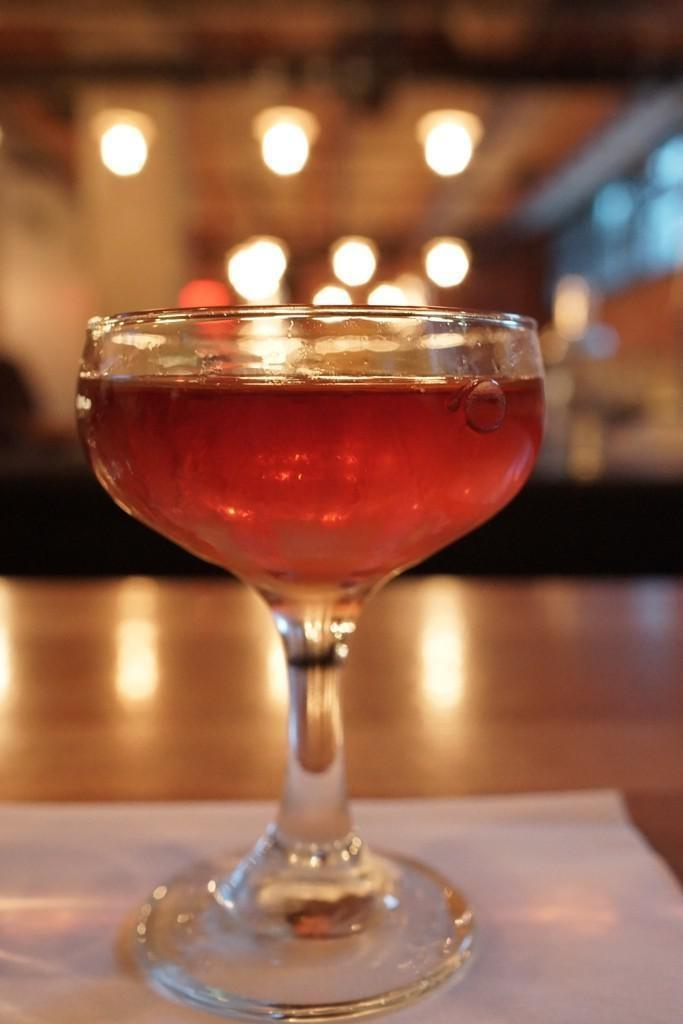glass-wine: (74, 303, 549, 1023)
